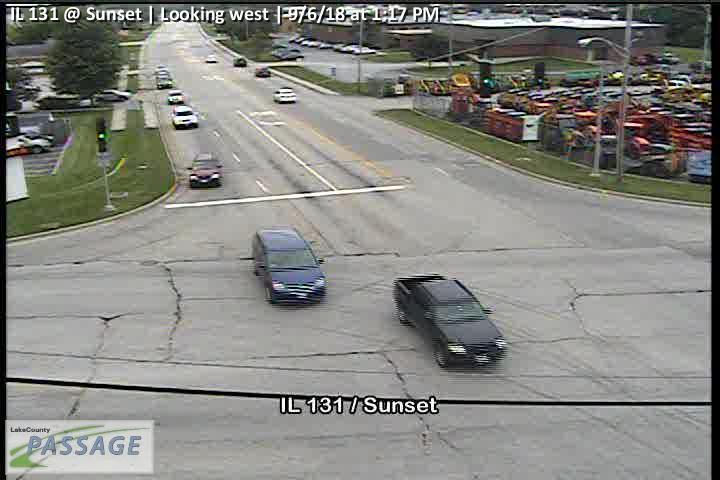SUV: (250, 223, 327, 307)
Sedan: (187, 152, 225, 190), (170, 104, 200, 130), (272, 88, 297, 102), (168, 89, 184, 103)
Truck: (393, 272, 509, 368)
